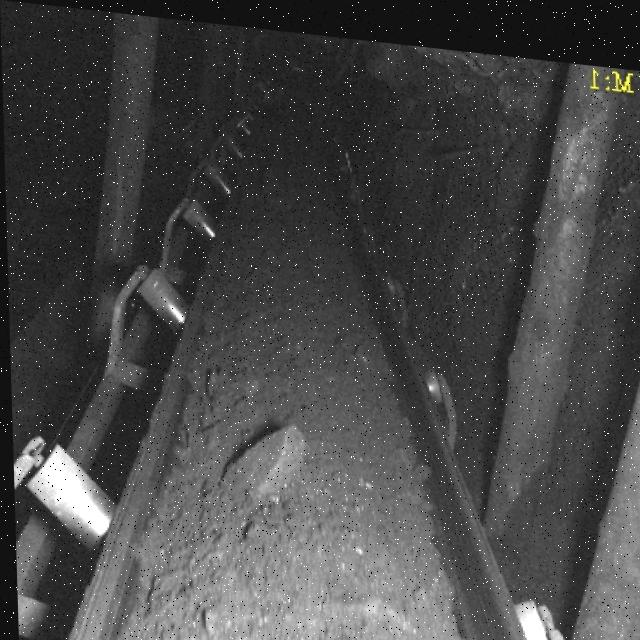large_sized_coal: (220, 411, 304, 513)
